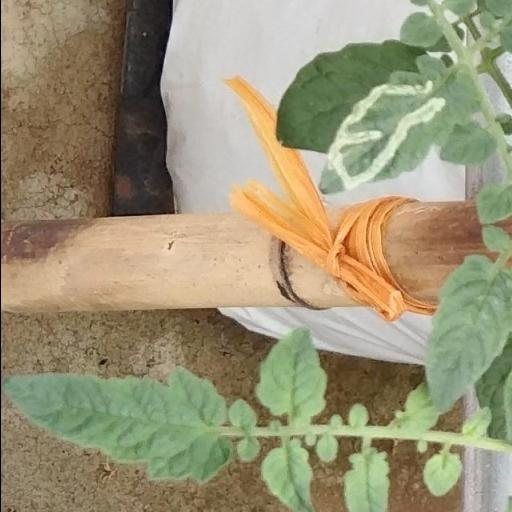disease_tomato: (316, 54, 485, 196)
